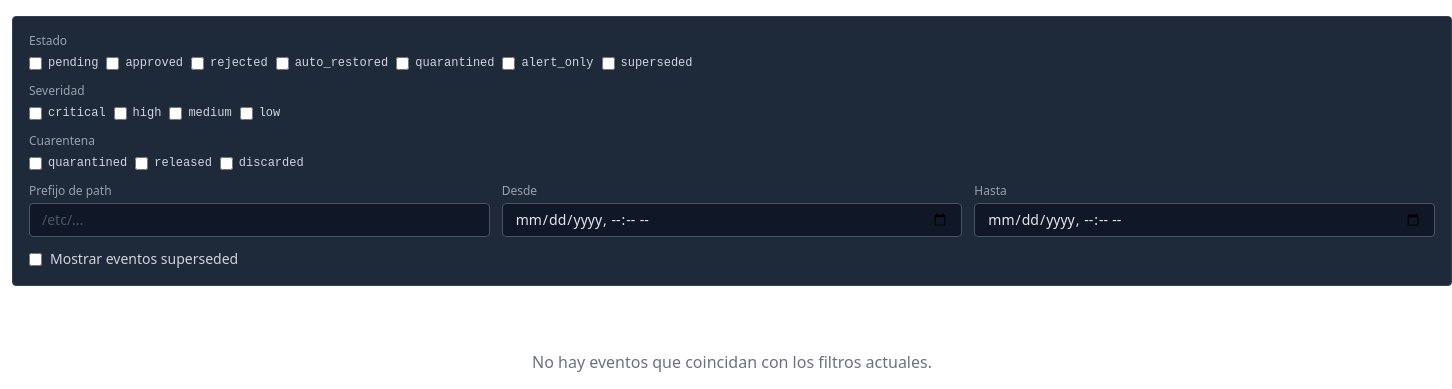
Test: Events — filtro por estado (US-07) › marcar superseded en el selector activa include_superseded=true
The image size is (1452, 389).
Click the checkbox labelled "superseded" at (608, 63), box top-left (602, 56), bottom-right (614, 70)
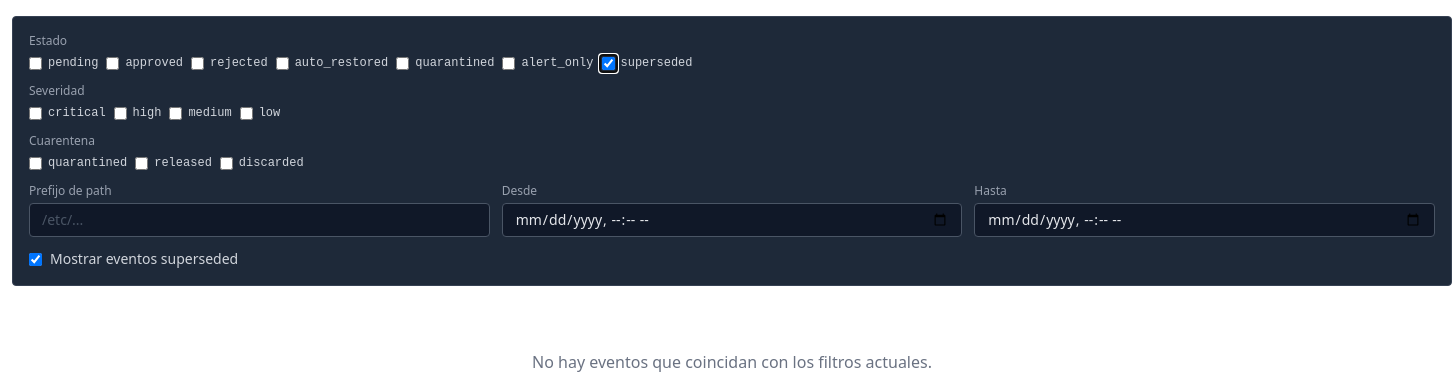
Expected: the checkbox labelled "Mostrar eventos superseded" is checked, top-left (29, 252), bottom-right (42, 266)
